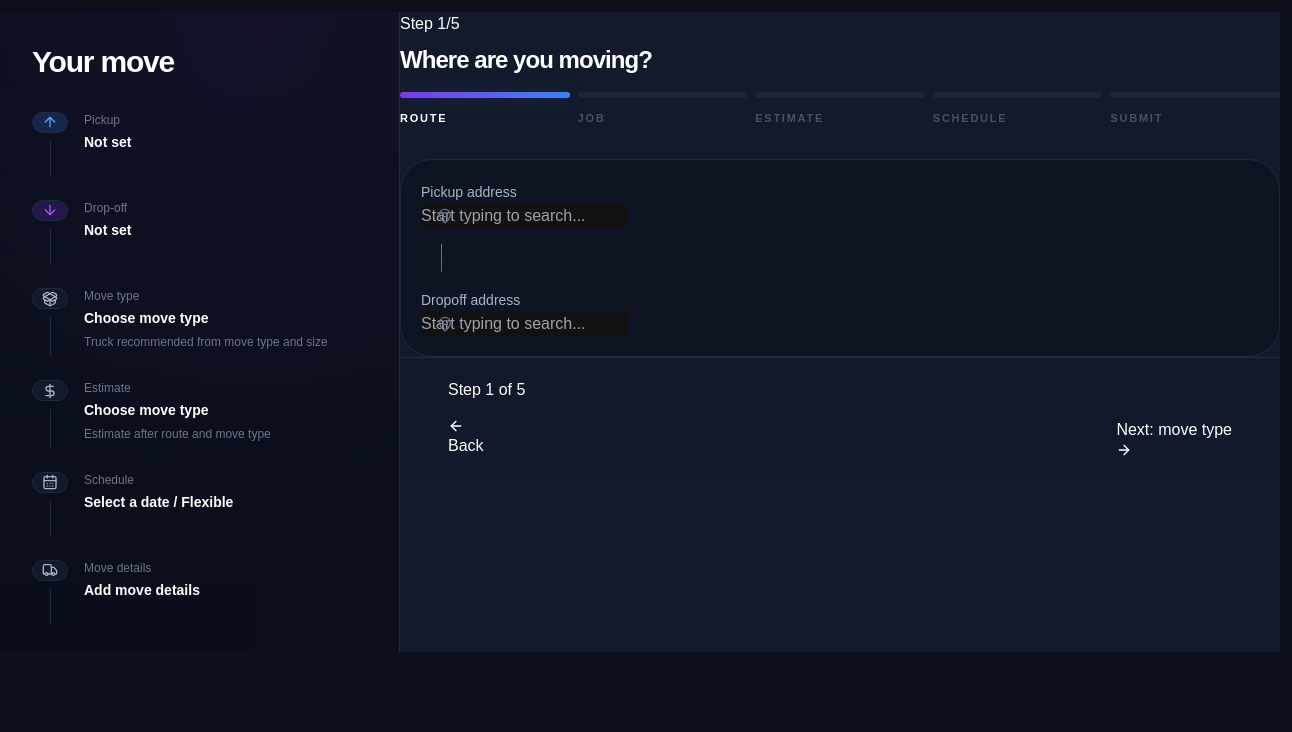
Test: QuoteForm › blocks forward progress until required step data is entered
Click the button "Next: move type".
click(1174, 438)  # box [1116,418,1232,458]
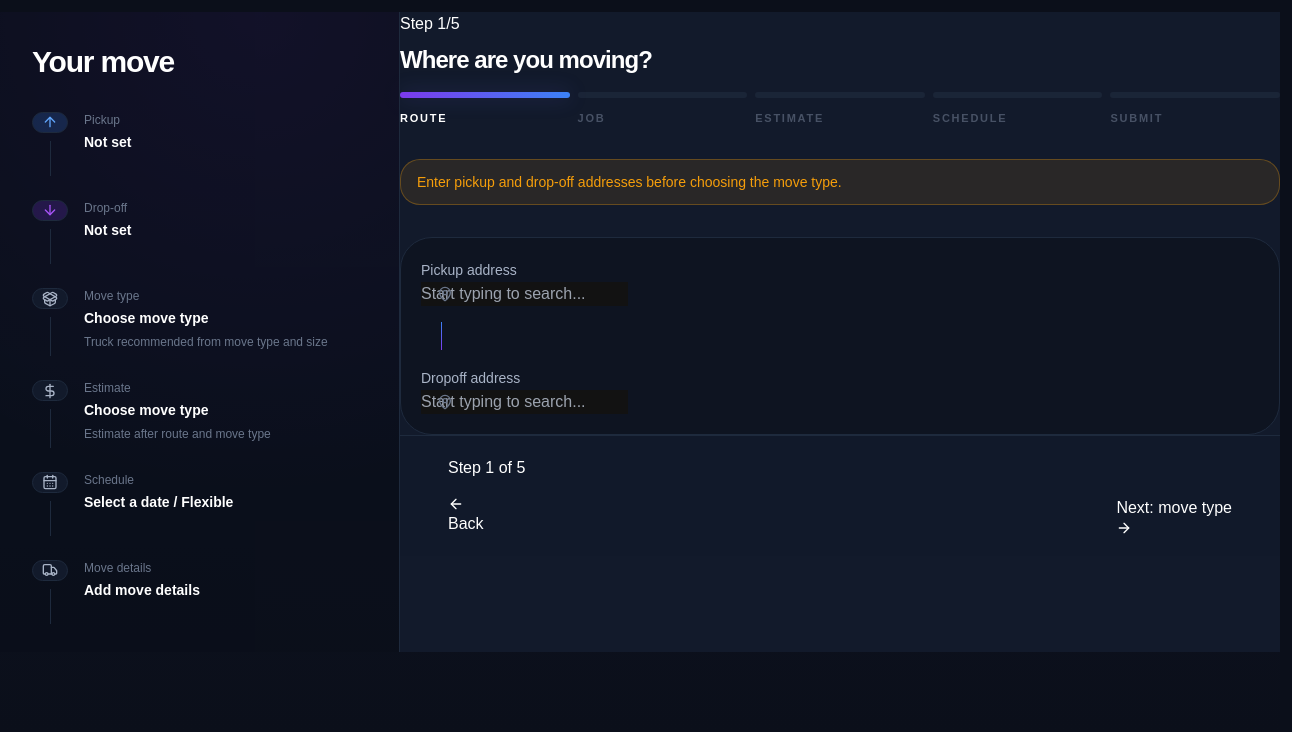
Now the message shows "Enter pickup and drop-off addresses", box [417,174,842,190]
Type "South Yarra VIC" into the field labelled "Pickup address".
click(524, 294); type("South Yarra VIC")  # box [421,282,628,306]
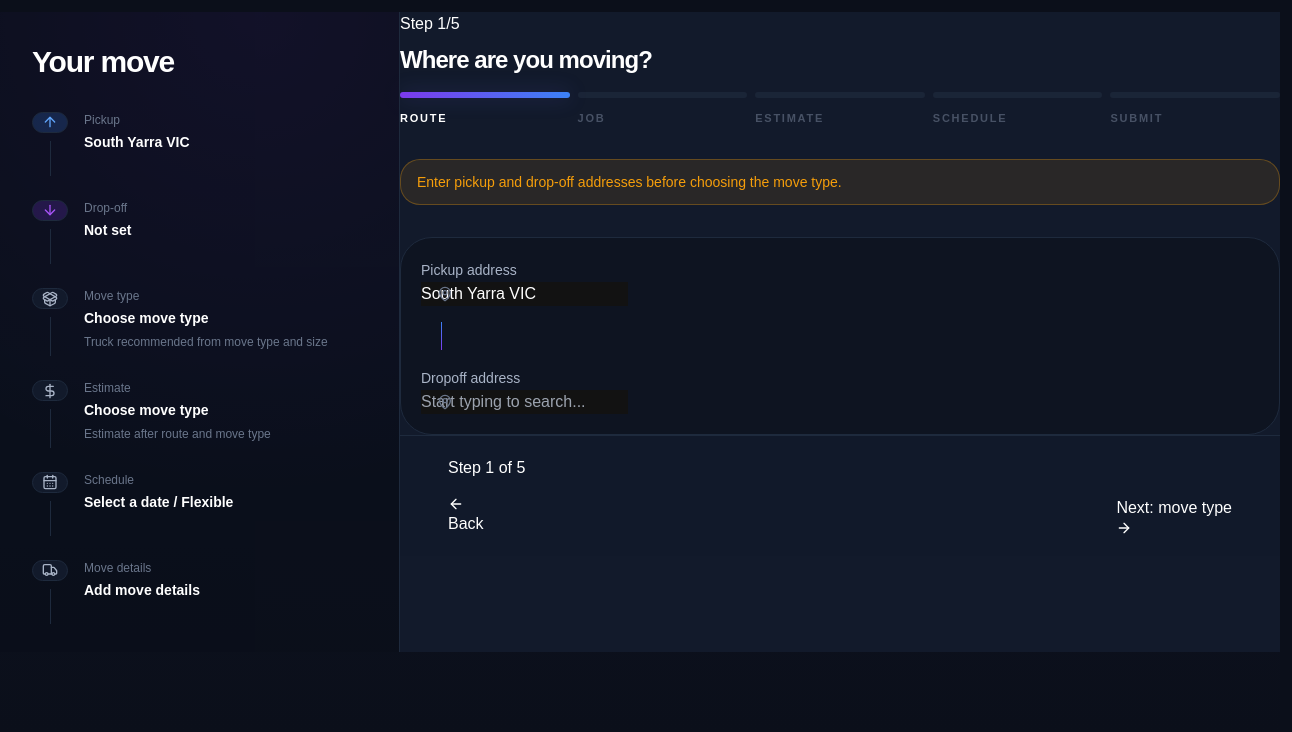
Type "Richmond VIC" into the field labelled "Dropoff address".
click(524, 402); type("Richmond VIC")  # box [421,390,628,414]
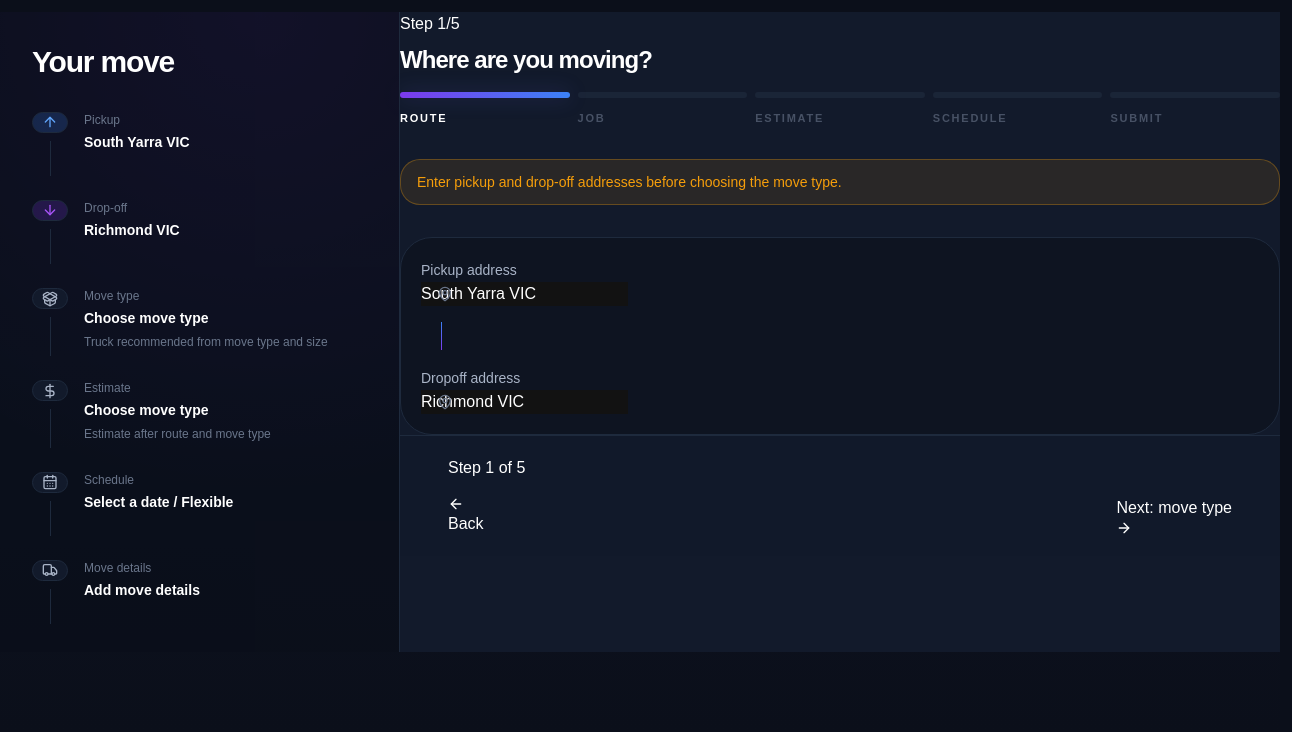
Click the button "Next: move type".
click(1174, 516)  # box [1116,496,1232,536]
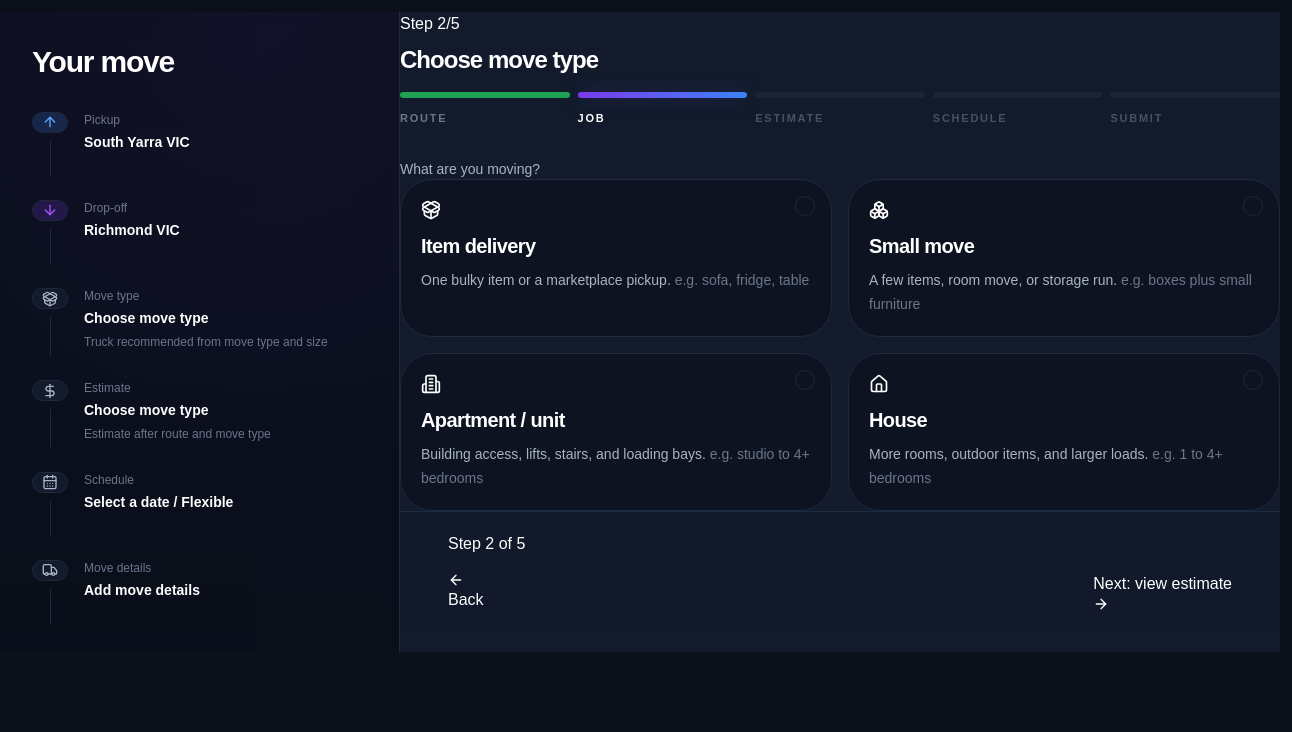
Now the heading "Choose move type" is shown, box [400,46,598,73]
Click the button "Next: view estimate".
click(1163, 592)  # box [1093,572,1232,612]
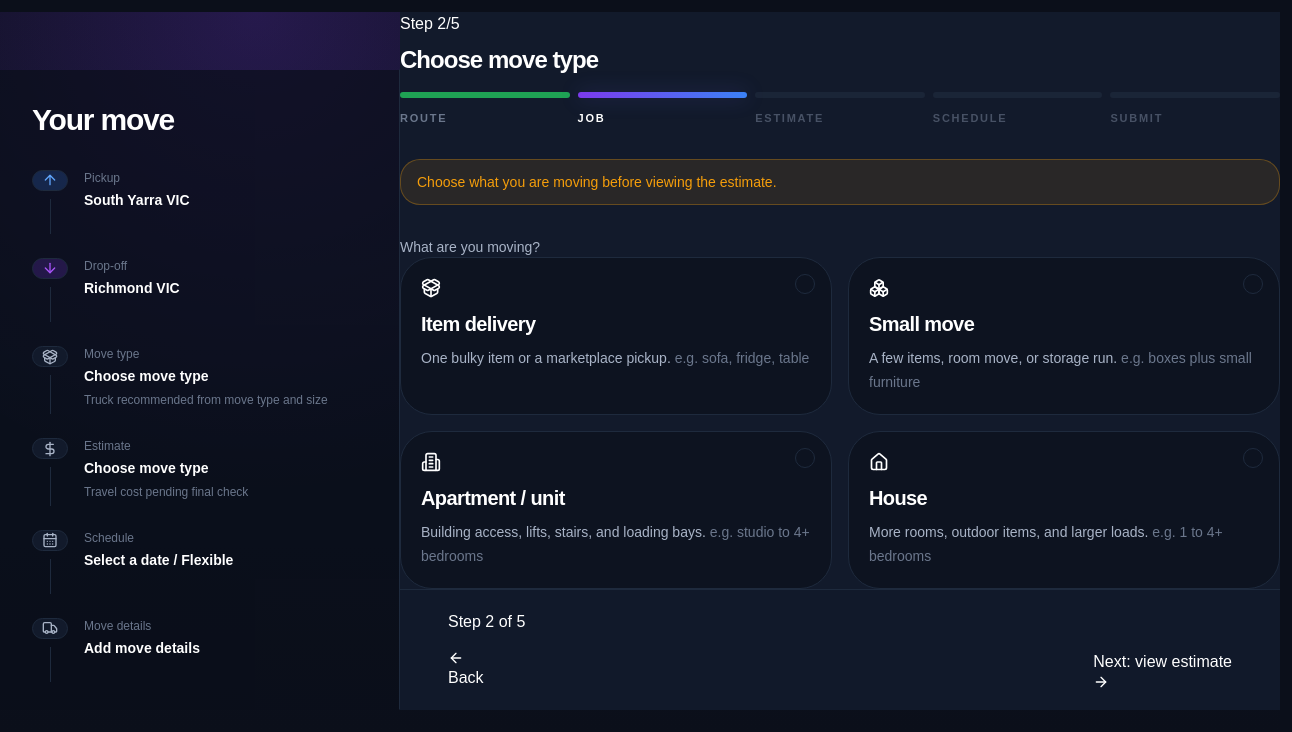
Now the message shows "Choose what you are moving", box [417,174,776,190]
